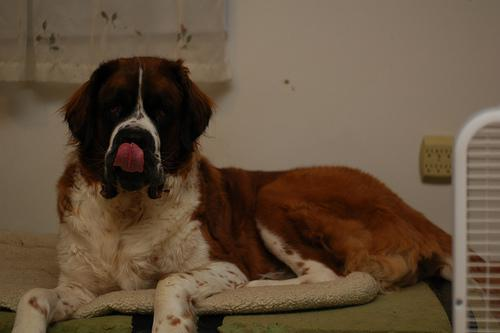dog-saint_bernard: (64, 55, 210, 197)
